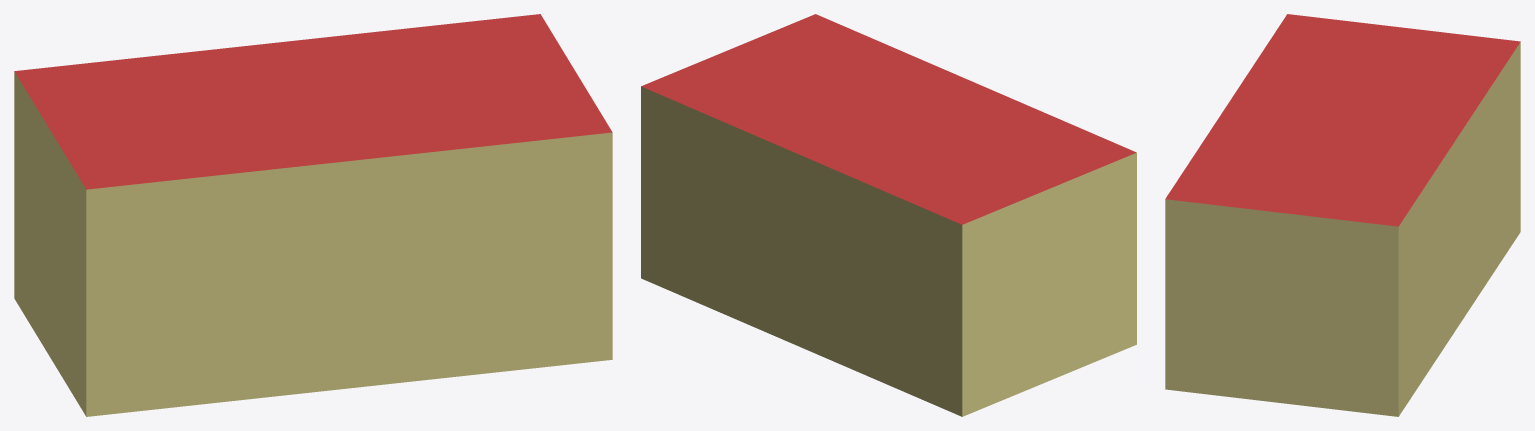
3 views of the same model, side by side, from view 1: azimuth 30°, elevation 25°; view 2: azimuth 150°, elevation 25°; view 3: azimuth 270°, elevation 25° (orthographic). The views are drawn at different scales.
Bounding box in the file's own units: 14.59 × 10.31 × 6.09.
